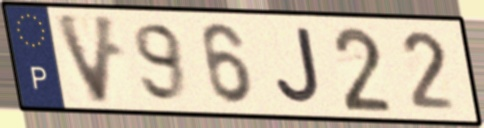2: (330, 22, 396, 116), (399, 29, 458, 113)
6: (198, 21, 257, 107)
9: (131, 20, 191, 103)
J: (273, 25, 323, 108)
V: (50, 10, 121, 107)
